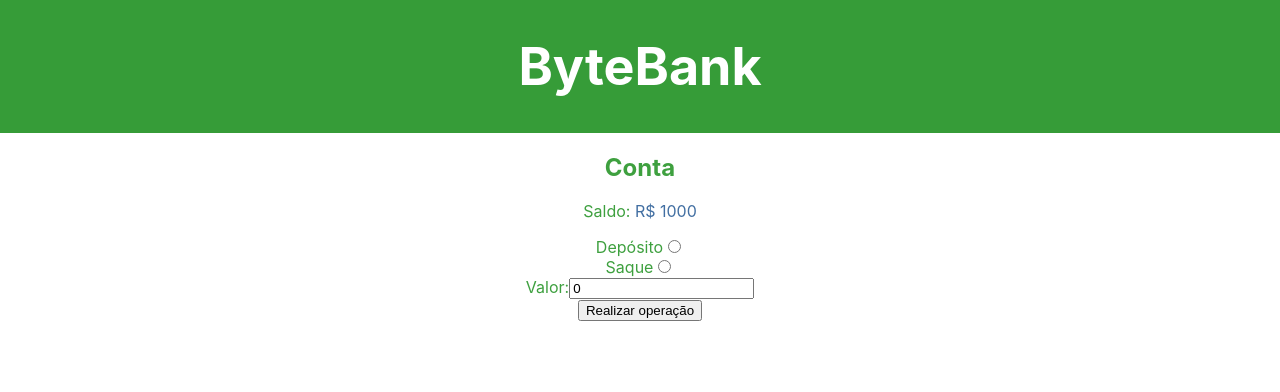
Test: Componente principal › Quando eu realizo uma transação › que é um saque, a transação deve ser realizada
This screenshot has width=1280, height=392.
Expected: the text "R$ 1000" is shown, [635,202,697,222]
Click the radio button labelled "Saque".
click(665, 267)  # box [658,260,671,274]
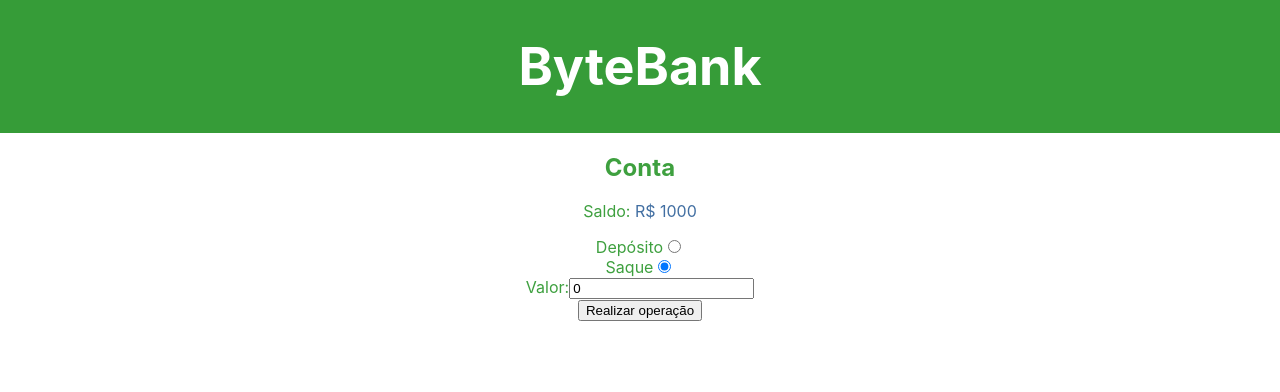
Replace the text in the field with test id "valor" with "10" at (662,289), box [569,278,754,300]
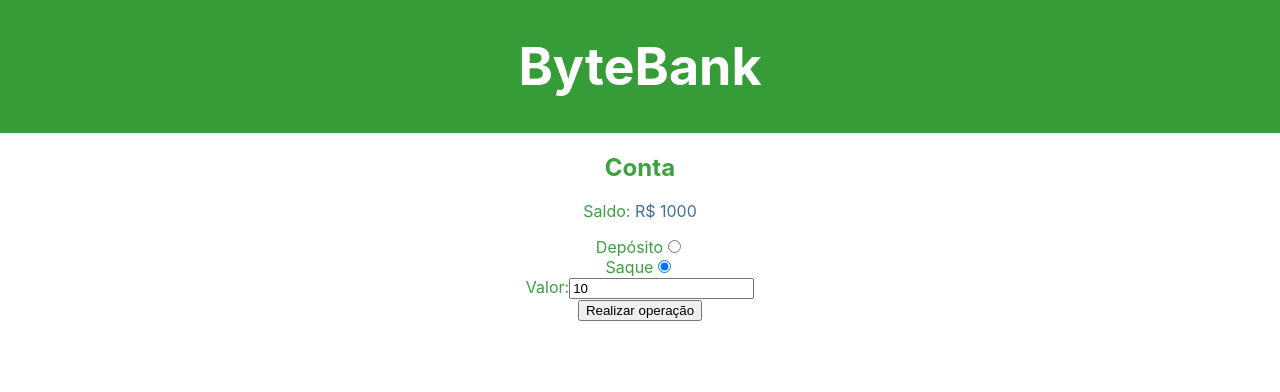
Click the button "Realizar operação".
click(640, 311)  # box [578,300,702,322]
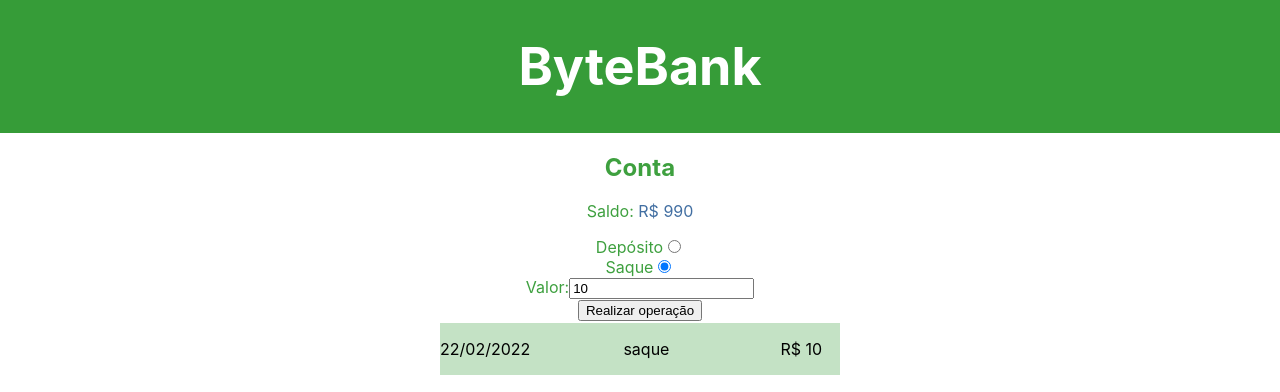
Expected: the text "R$ 1000" reads "R$ 990", [638,202,693,222]
